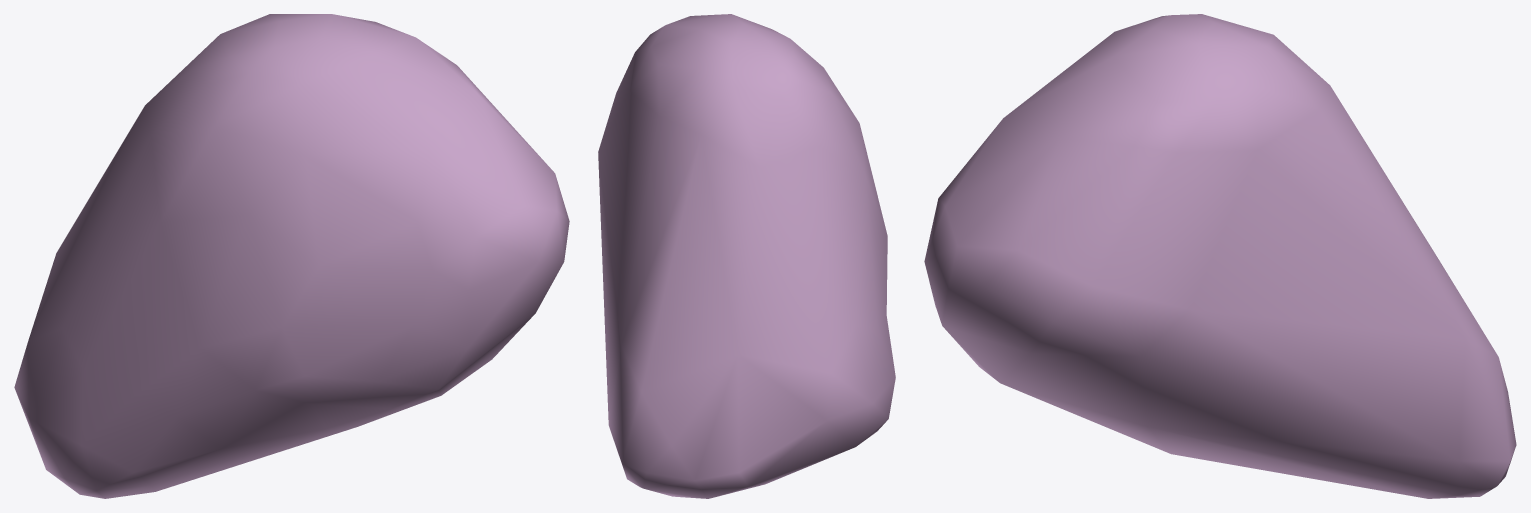
The picture shows the model from 3 angles, left to right: view 1: azimuth 30°, elevation 25°; view 2: azimuth 150°, elevation 25°; view 3: azimuth 270°, elevation 25°; orthographic projection. The views are drawn at different scales.
Parts seen in each view (by area): view 1: 右侧内侧膝状体; view 2: 右侧内侧膝状体; view 3: 右侧内侧膝状体.
Part boxes in pixels (x1,y1,x2,y2): 右侧内侧膝状体: (14,14,569,498); 右侧内侧膝状体: (598,14,895,498); 右侧内侧膝状体: (924,14,1516,498).
Size of the model in its own units: 0.00932 by 0.0101 by 0.011.
